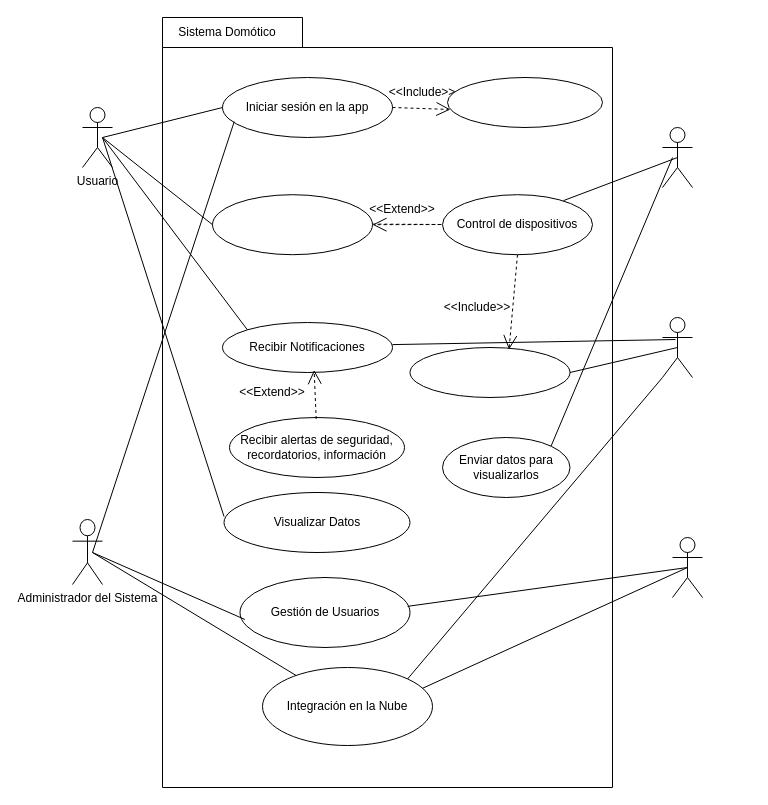
Image size: 768x805. Some labels were removed from this diagram. Each missing label, with the centre of its shape:
"Control Remoto desde Móviles" belongs at (x=489, y=372).
"Crear Rutinas" belongs at (x=292, y=224).
"Dispositivos IoT" belongs at (x=677, y=157).
"Proveedor de Servicios en la Nube" belongs at (x=687, y=567).
"Servidor en la Nube" belongs at (x=677, y=347).
"Verificar credenciales" belongs at (x=524, y=102).
